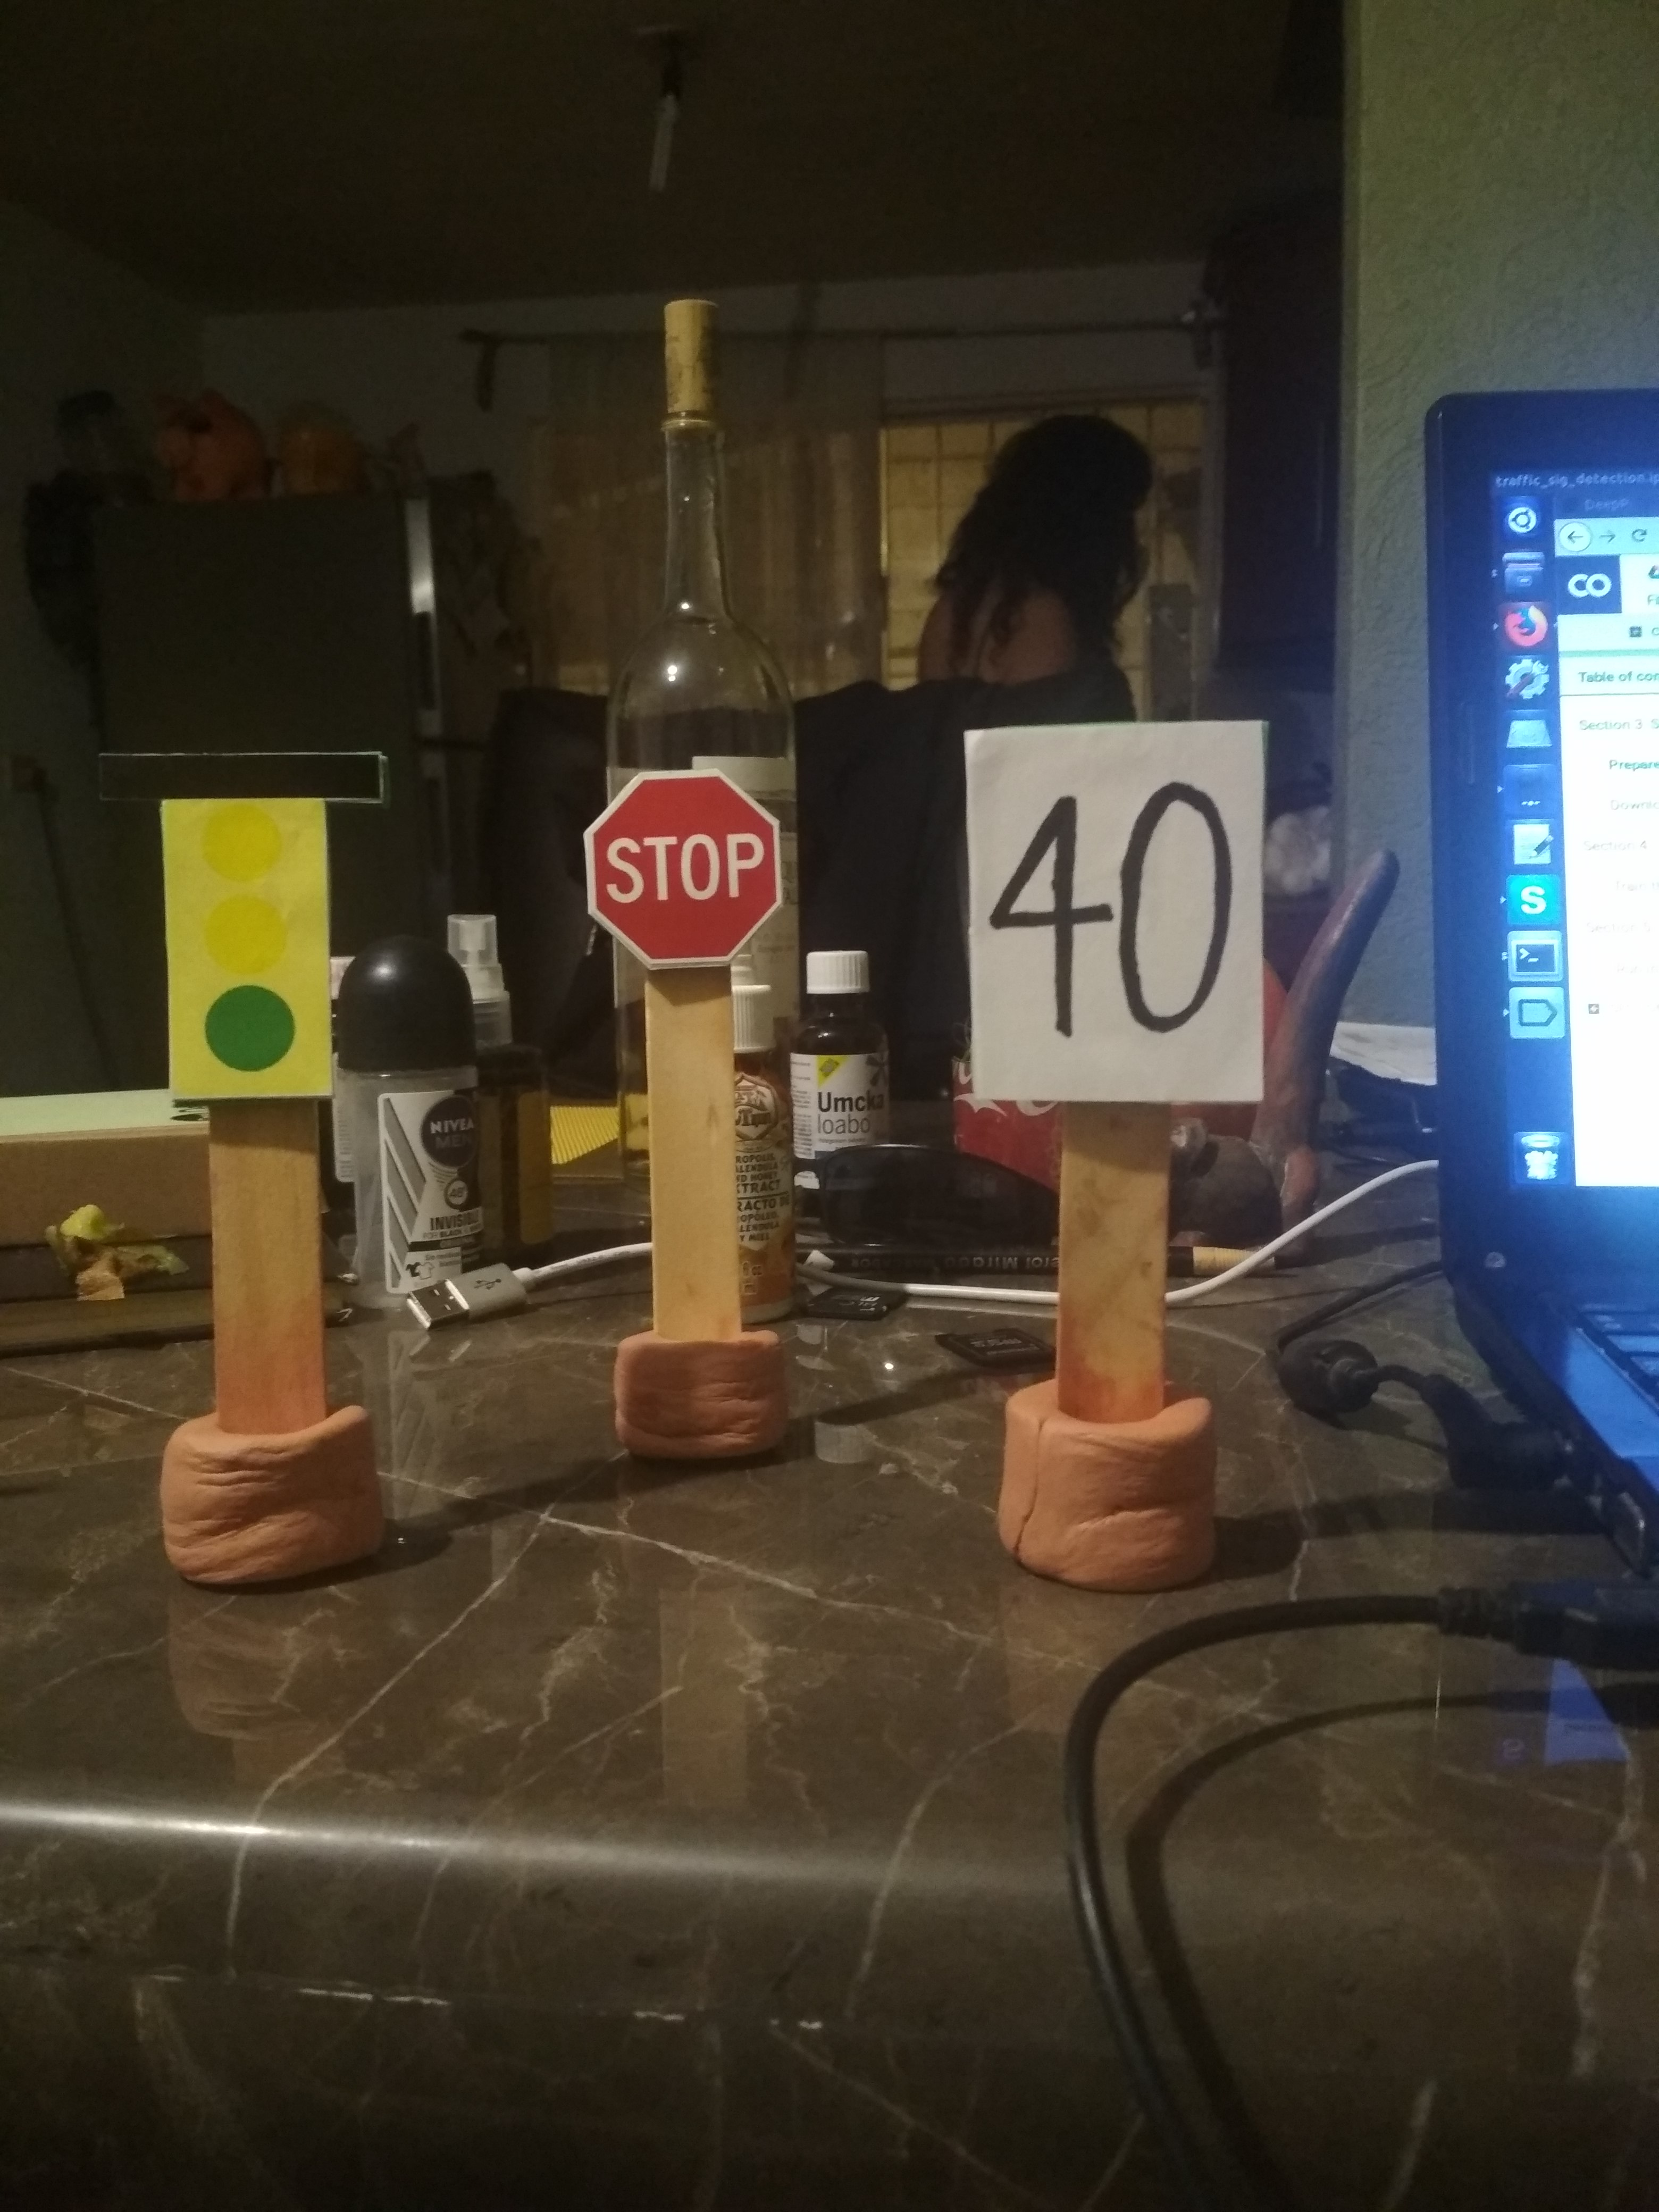Green: (89, 745, 383, 1108)
Limit 40: (955, 716, 1284, 1115)
Stop: (573, 761, 786, 972)
